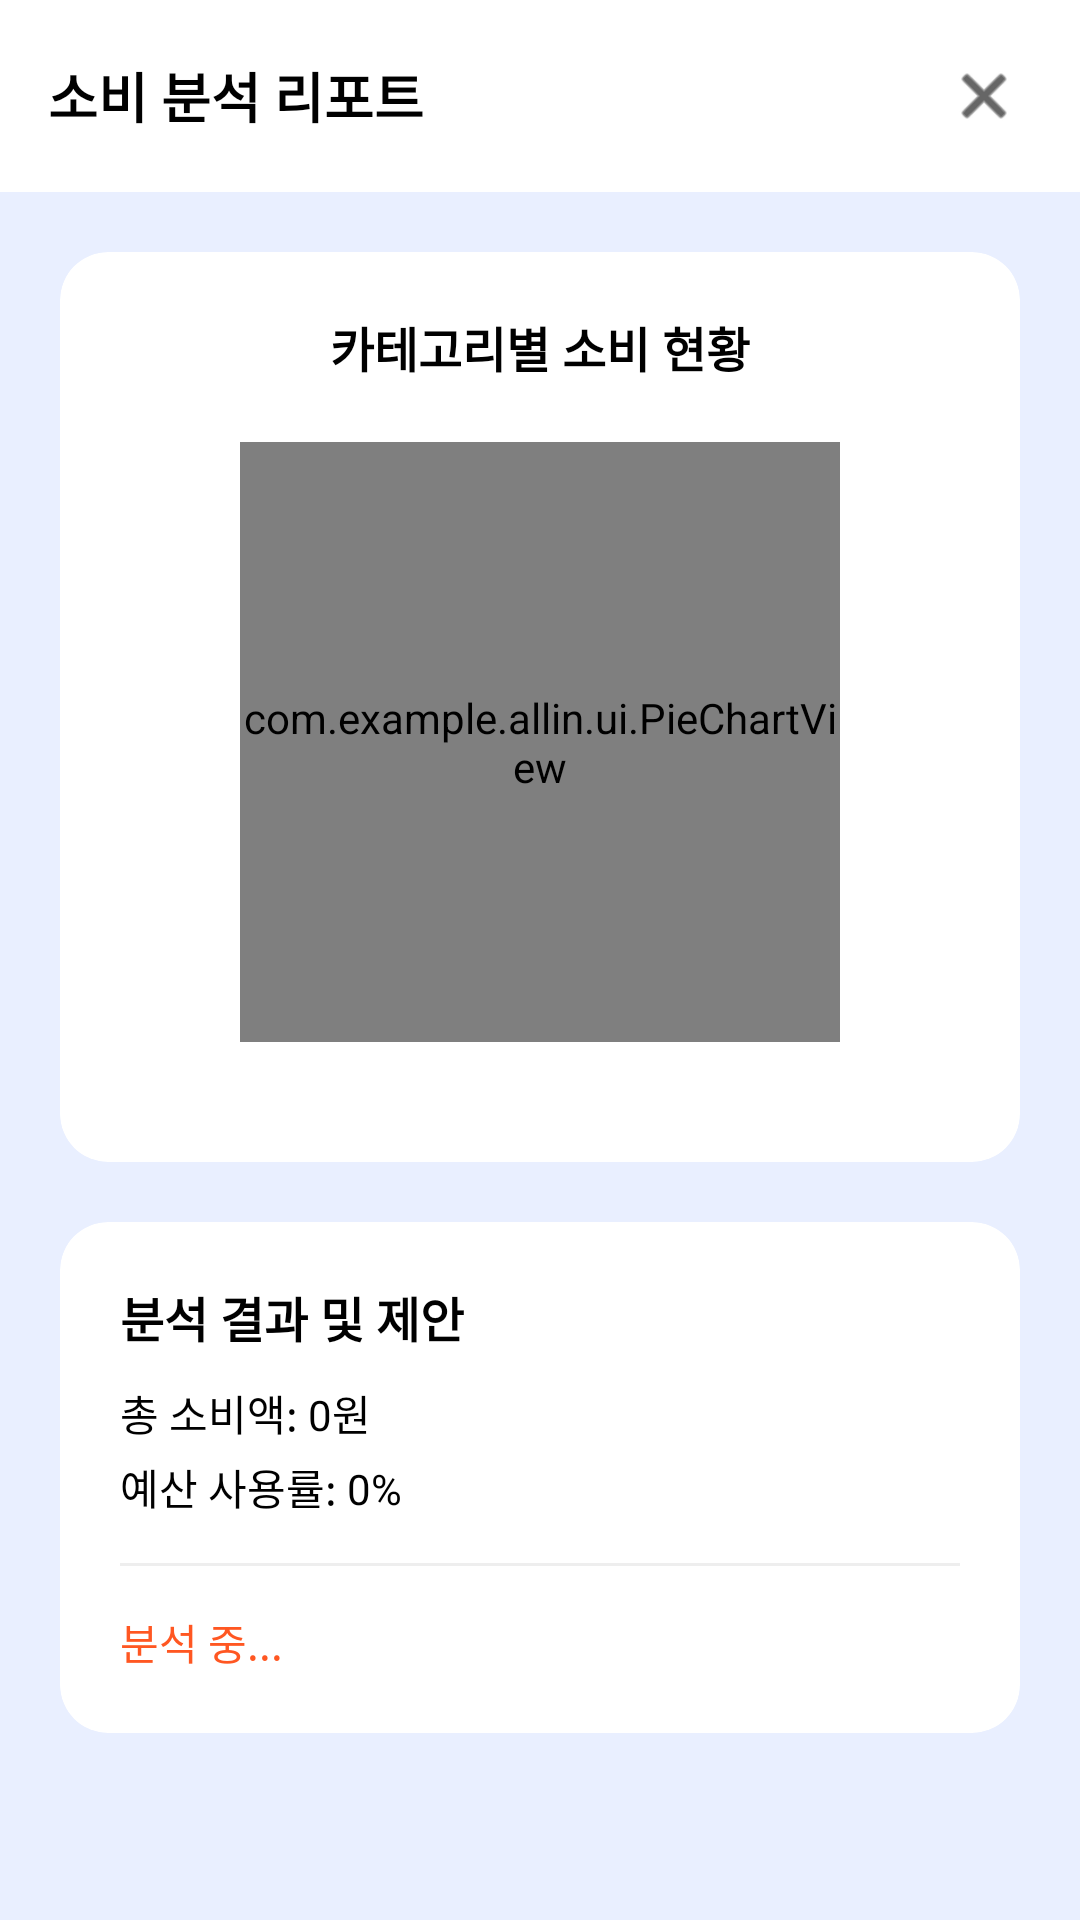

Named icons in this screenshot (1080 × 1920) and their centers, [x,y]:
close clear cancel: [984,96]
